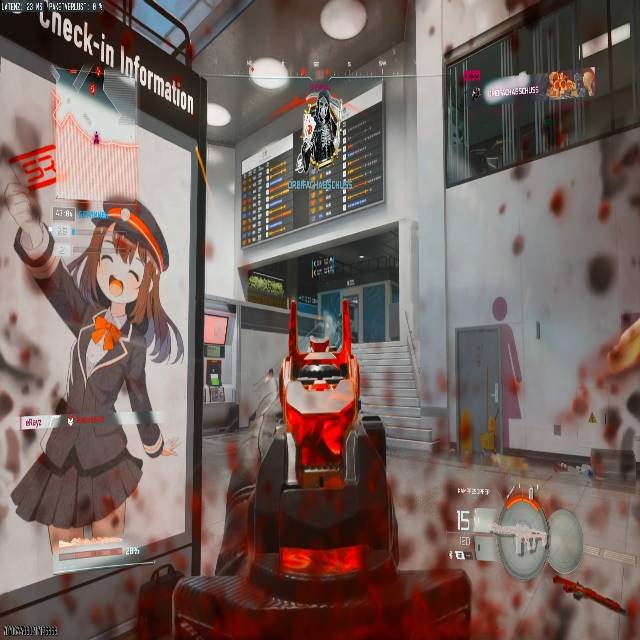player: (26, 230, 175, 469)
